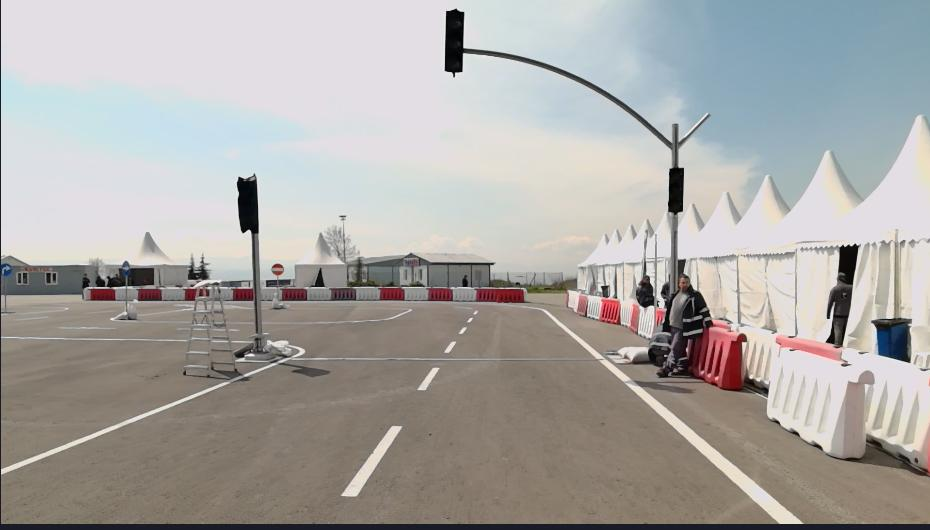nesne: (0, 301, 807, 525), (321, 302, 806, 527), (0, 304, 483, 526), (540, 307, 802, 524), (1, 340, 305, 477), (686, 317, 930, 479), (463, 46, 711, 169), (0, 298, 374, 352), (761, 347, 867, 456), (865, 359, 928, 474), (650, 276, 713, 378), (184, 281, 236, 377), (341, 422, 401, 495), (688, 320, 743, 389), (282, 287, 527, 302), (741, 325, 773, 392), (871, 315, 911, 363), (249, 236, 265, 354), (774, 334, 839, 363), (827, 272, 850, 345), (237, 171, 260, 237), (0, 333, 188, 341), (446, 5, 463, 76), (126, 286, 195, 301), (608, 343, 649, 362), (666, 168, 684, 211), (80, 283, 123, 300), (670, 212, 679, 290), (633, 272, 655, 303), (476, 286, 524, 300), (598, 295, 620, 324), (637, 304, 653, 340), (416, 365, 438, 391), (845, 353, 870, 372), (583, 295, 601, 321), (338, 213, 347, 260), (378, 285, 404, 300), (618, 300, 633, 326), (629, 301, 640, 335), (306, 286, 332, 300), (330, 286, 356, 300), (267, 339, 294, 352), (404, 286, 429, 300), (429, 287, 453, 301), (355, 286, 380, 299), (161, 288, 184, 302), (280, 288, 306, 300), (452, 286, 476, 299), (90, 286, 113, 299), (233, 287, 254, 301), (574, 293, 588, 314), (232, 342, 252, 356), (566, 291, 579, 312), (139, 290, 162, 301), (123, 273, 128, 320), (127, 299, 139, 318), (443, 340, 457, 355), (271, 295, 286, 309), (109, 286, 123, 300), (106, 273, 121, 286), (260, 288, 274, 301), (181, 288, 196, 300), (218, 288, 232, 300), (79, 272, 91, 286), (269, 263, 284, 274), (0, 263, 12, 276), (597, 282, 608, 296), (2, 274, 6, 312), (111, 311, 127, 320), (121, 260, 132, 273), (126, 288, 137, 301), (460, 272, 469, 287), (274, 276, 279, 302), (93, 275, 104, 285), (82, 286, 90, 298)
